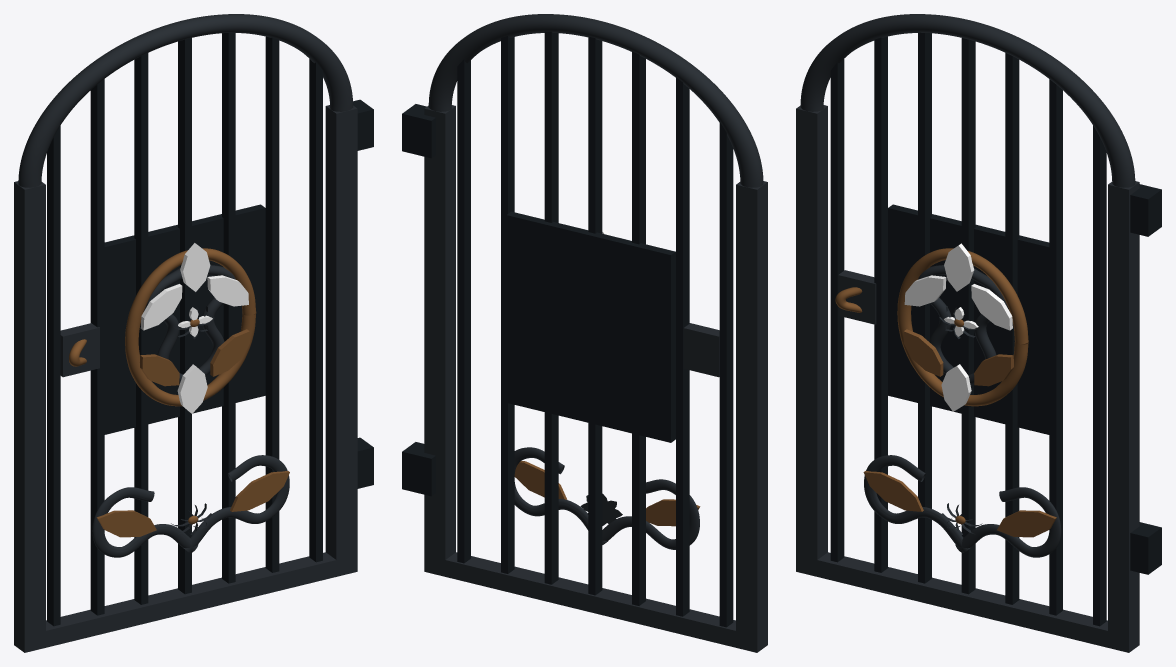
File: litle.glb
3 renders of one model, left to right at view 1: azimuth 30°, elevation 25°; view 2: azimuth 150°, elevation 25°; view 3: azimuth 330°, elevation 25°, orthographic.
Visible parts, largest first — view 1: Боковая стойка; view 2: Боковая стойка; view 3: Боковая стойка.
Boxes of the visible parts, x1,y1,x2,y2 form: Боковая стойка: (14,14,373,652); Боковая стойка: (402,14,767,652); Боковая стойка: (796,14,1161,652).
Bounding box in the file's own units: 0.5 × 0.8 × 0.05.
